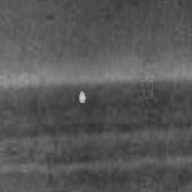Target: (77, 90, 87, 105)
